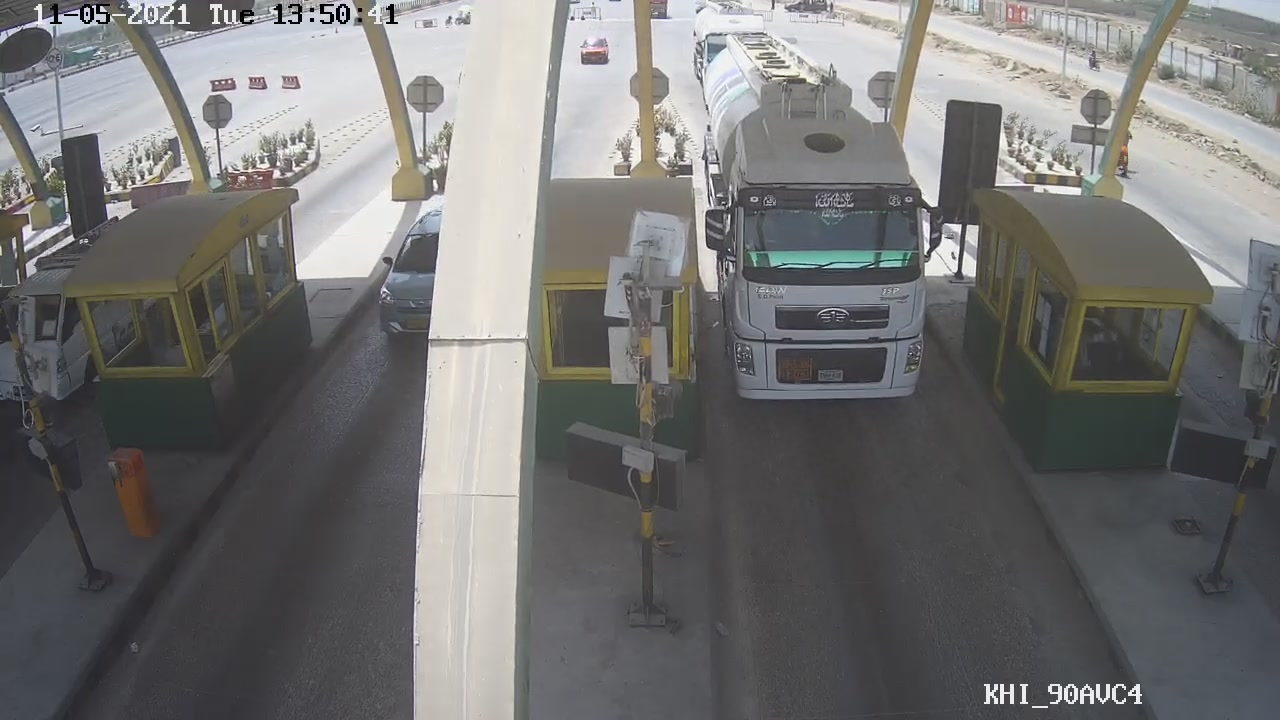F6: (696, 51, 944, 408)
